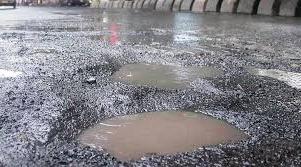pothole: (74, 107, 252, 163), (111, 58, 220, 91), (241, 67, 296, 83)
